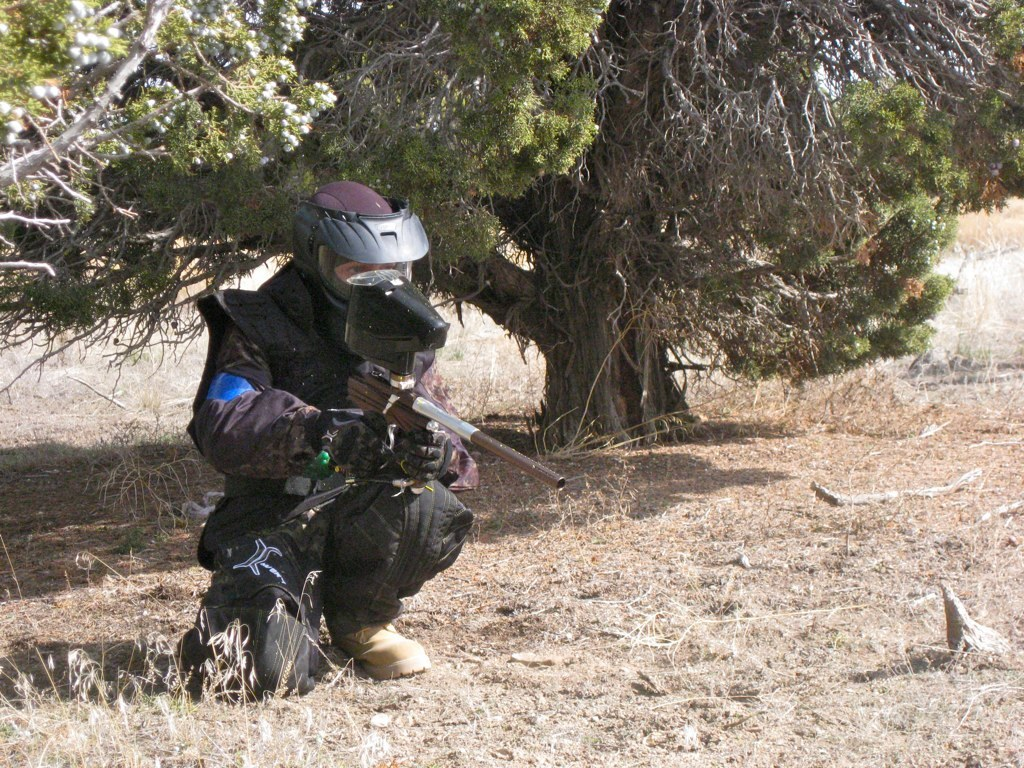Person: (177, 179, 474, 701)
